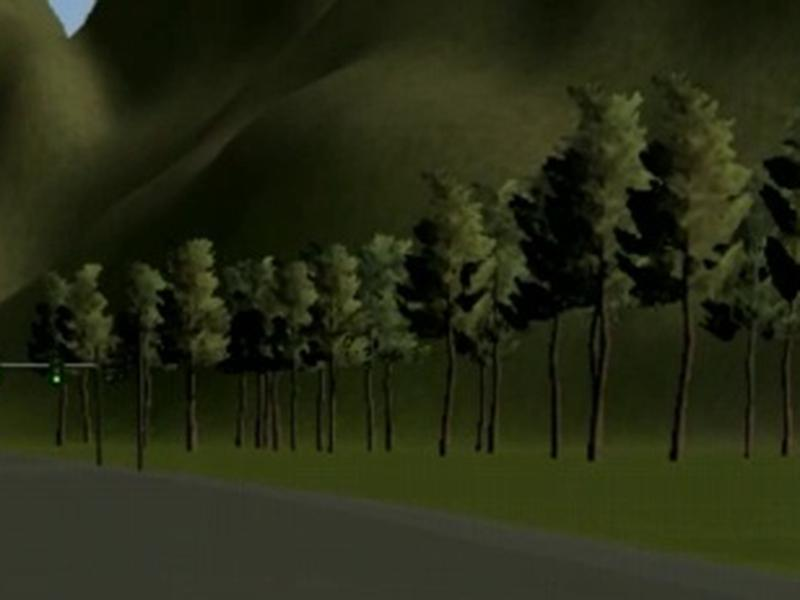Green: (51, 352, 63, 386)
